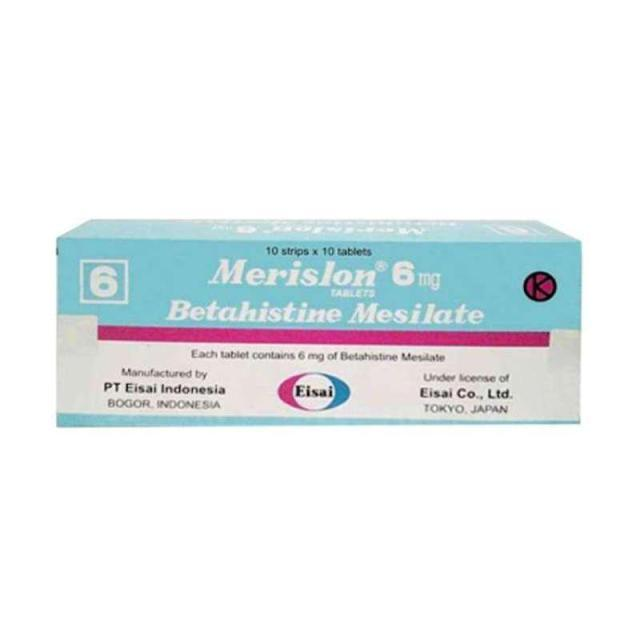drug-name: (208, 256, 388, 292)
